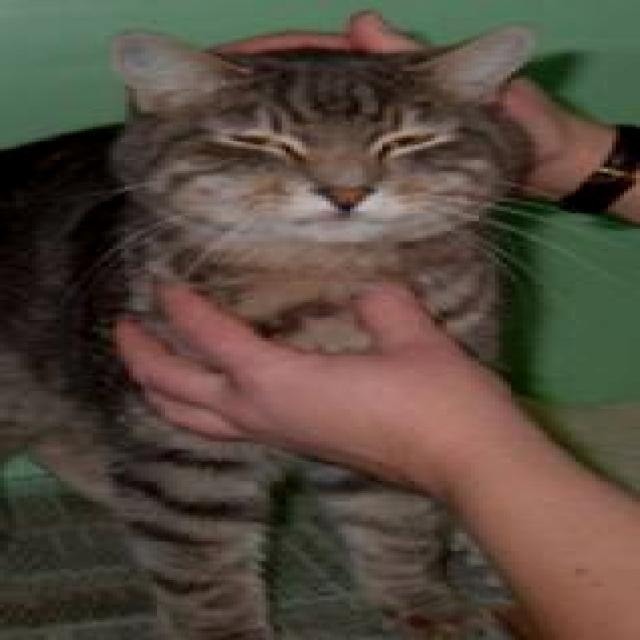Kucing: (0, 5, 624, 634)
